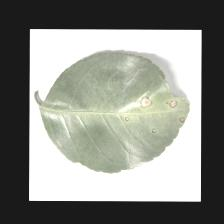canker: (120, 72, 189, 151)
